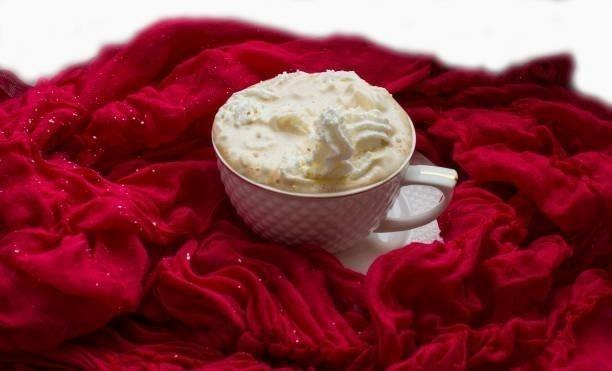cup-handle: (209, 74, 458, 256)
